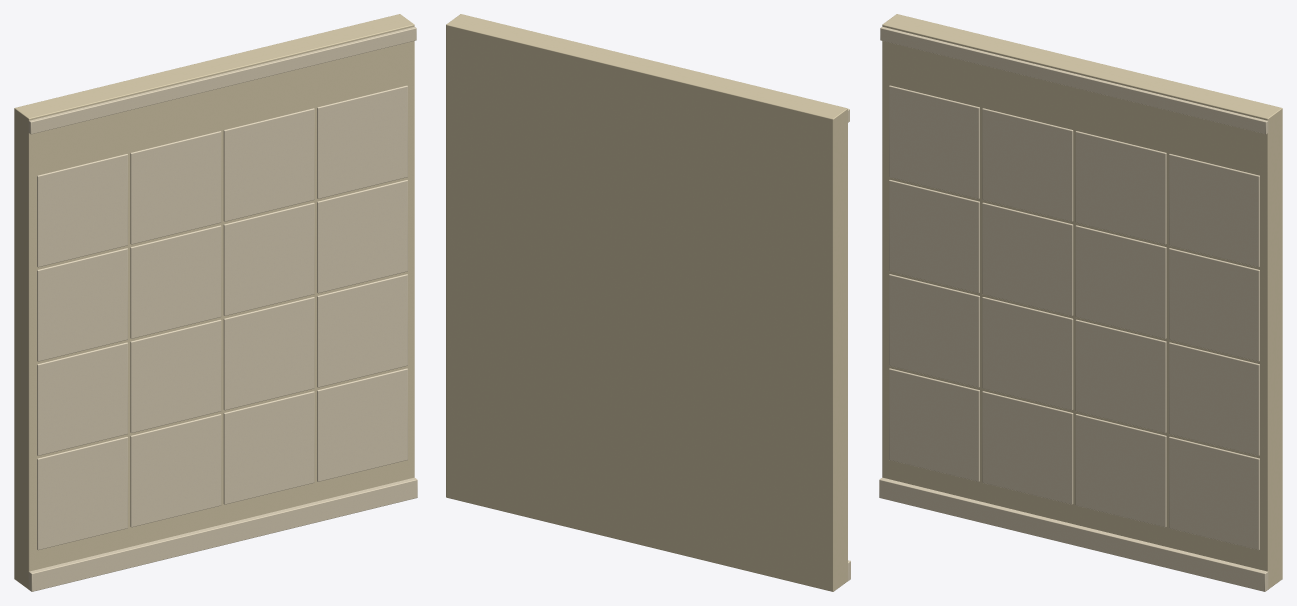
Rendered from 24_acoustic_wall.glb.
3 views of the same model, side by side, from view 1: azimuth 30°, elevation 25°; view 2: azimuth 150°, elevation 25°; view 3: azimuth 330°, elevation 25° (orthographic).
Visible parts, largest first — view 1: 24_acoustic_wall__wall_slab, 24_acoustic_wall__inset_acoustic_panel.014, 24_acoustic_wall__inset_acoustic_panel.001, 24_acoustic_wall__inset_acoustic_panel.010, 24_acoustic_wall__inset_acoustic_panel.005, 24_acoustic_wall__inset_acoustic_panel.009, 24_acoustic_wall__inset_acoustic_panel.006, 24_acoustic_wall__inset_acoustic_panel.013, 24_acoustic_wall__inset_acoustic_panel.002, 24_acoustic_wall__base_trim, 24_acoustic_wall__inset_acoustic_panel.004, 24_acoustic_wall__inset_acoustic_panel.003 (+7 smaller); view 2: 24_acoustic_wall__wall_slab; view 3: 24_acoustic_wall__wall_slab, 24_acoustic_wall__inset_acoustic_panel.013, 24_acoustic_wall__inset_acoustic_panel.002, 24_acoustic_wall__inset_acoustic_panel.009, 24_acoustic_wall__inset_acoustic_panel.006, 24_acoustic_wall__inset_acoustic_panel.010, 24_acoustic_wall__inset_acoustic_panel.005, 24_acoustic_wall__inset_acoustic_panel.014, 24_acoustic_wall__inset_acoustic_panel.001, 24_acoustic_wall__base_trim, 24_acoustic_wall__inset_acoustic_panel.007, 24_acoustic_wall__inset_acoustic_panel (+7 smaller).
Part boxes in pixels (left/top/right/bottom): 24_acoustic_wall__wall_slab: left=14, top=14, right=414, bottom=589; 24_acoustic_wall__inset_acoustic_panel.014: left=223, top=108, right=314, bottom=221; 24_acoustic_wall__inset_acoustic_panel.001: left=130, top=414, right=221, bottom=527; 24_acoustic_wall__inset_acoustic_panel.010: left=223, top=202, right=314, bottom=315; 24_acoustic_wall__inset_acoustic_panel.005: left=130, top=319, right=221, bottom=432; 24_acoustic_wall__inset_acoustic_panel.009: left=130, top=225, right=221, bottom=338; 24_acoustic_wall__inset_acoustic_panel.006: left=223, top=297, right=314, bottom=410; 24_acoustic_wall__inset_acoustic_panel.013: left=130, top=131, right=221, bottom=244; 24_acoustic_wall__inset_acoustic_panel.002: left=223, top=391, right=314, bottom=504; 24_acoustic_wall__base_trim: left=28, top=477, right=417, bottom=591; 24_acoustic_wall__inset_acoustic_panel.004: left=37, top=342, right=127, bottom=455; 24_acoustic_wall__inset_acoustic_panel.003: left=317, top=368, right=407, bottom=481; 24_acoustic_wall__wall_slab: left=446, top=14, right=847, bottom=591; 24_acoustic_wall__wall_slab: left=882, top=14, right=1282, bottom=589; 24_acoustic_wall__inset_acoustic_panel.013: left=982, top=108, right=1073, bottom=221; 24_acoustic_wall__inset_acoustic_panel.002: left=1075, top=414, right=1166, bottom=527; 24_acoustic_wall__inset_acoustic_panel.009: left=982, top=202, right=1073, bottom=315; 24_acoustic_wall__inset_acoustic_panel.006: left=1075, top=319, right=1166, bottom=432; 24_acoustic_wall__inset_acoustic_panel.010: left=1075, top=225, right=1166, bottom=338; 24_acoustic_wall__inset_acoustic_panel.005: left=982, top=297, right=1073, bottom=410; 24_acoustic_wall__inset_acoustic_panel.014: left=1075, top=131, right=1166, bottom=244; 24_acoustic_wall__inset_acoustic_panel.001: left=982, top=391, right=1073, bottom=504; 24_acoustic_wall__base_trim: left=879, top=477, right=1268, bottom=591; 24_acoustic_wall__inset_acoustic_panel.007: left=1169, top=342, right=1259, bottom=455; 24_acoustic_wall__inset_acoustic_panel: left=889, top=368, right=979, bottom=481.
Bounding box in the file's own units: 2.4 × 2.8 × 0.1905.
2 materials, 2 textured.
